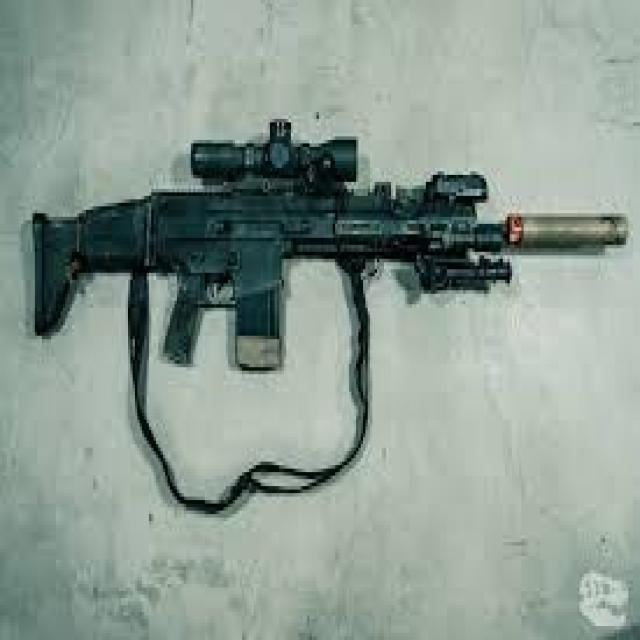Gun: (39, 124, 634, 473)
